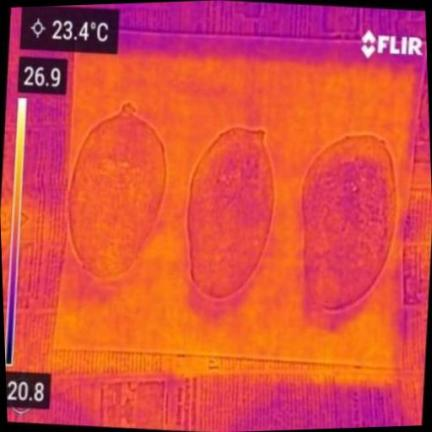mango: (69, 102, 164, 277), (303, 136, 396, 309), (187, 127, 272, 298)
